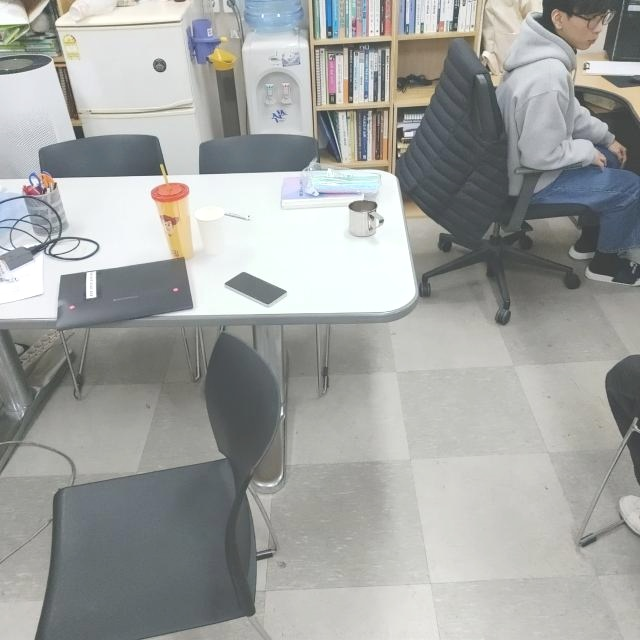cup: (346, 198, 385, 240)
phone: (224, 267, 288, 308)
